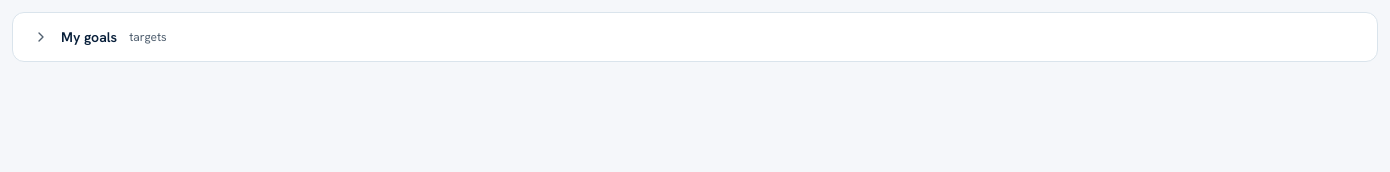
Test: Dashboard folds › starts closed, opens on click, and remembers it
Later steps or results of the test are not shown.
Expected: the text "Goal content" is not shown
Click the button "My goals targets" at {"x": 89, "y": 37}, box [13,13,1377,61]
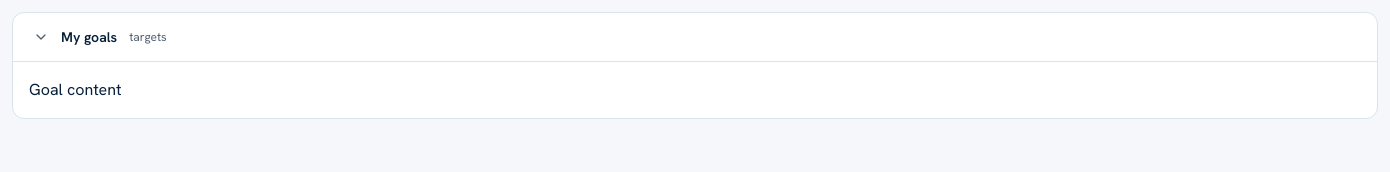
Expected: the text "Goal content" is shown, [29,79,122,100]
